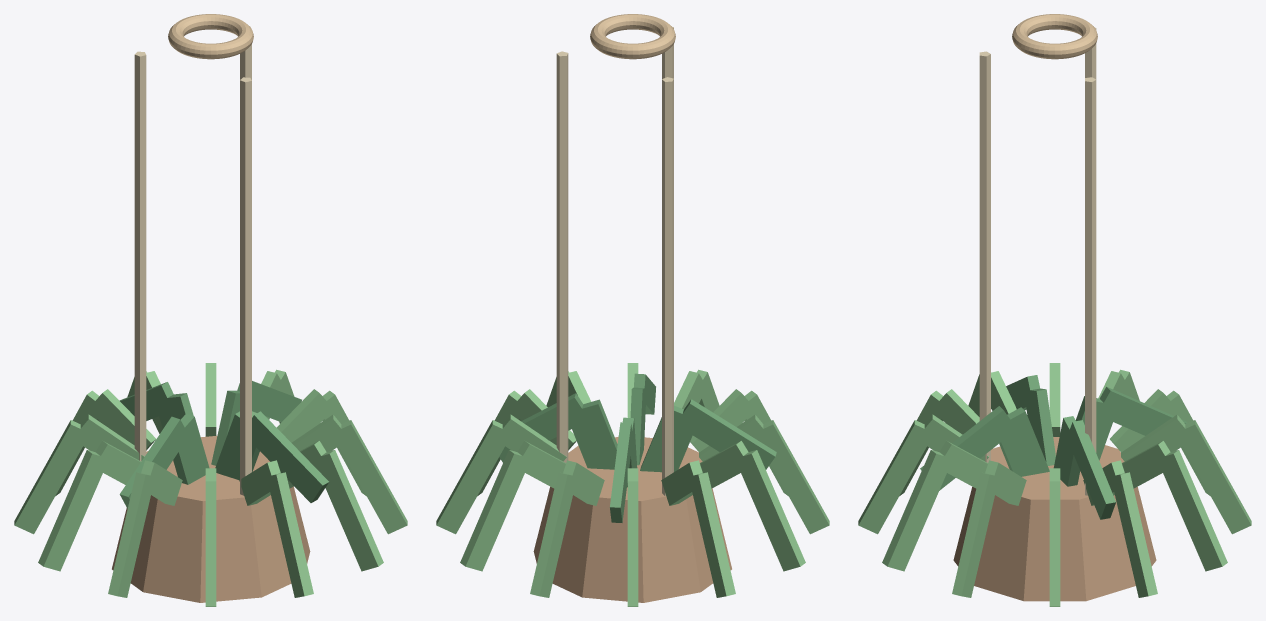
The model's file is 18-Casas_decor_maceta_helecho.glb.
3 renders of one model, left to right at view 1: azimuth 30°, elevation 25°; view 2: azimuth 150°, elevation 25°; view 3: azimuth 270°, elevation 25°, orthographic.
Parts seen in each view (by area): view 1: SM_MacHel_Maceta, SM_MacHel_Cuerda.001, SM_MacHel_Cuerda.002, SM_MacHel_Fr_10_La, SM_MacHel_Fr_6_La, SM_MacHel_Fr_5_La, SM_MacHel_Fr_11_La, SM_MacHel_Gancho, SM_MacHel_Centro_3_La, SM_MacHel_Fr_7_La, SM_MacHel_Fr_9_La, SM_MacHel_Centro_2_Pe (+17 smaller); view 2: SM_MacHel_Maceta, SM_MacHel_Cuerda, SM_MacHel_Cuerda.001, SM_MacHel_Fr_6_La, SM_MacHel_Fr_2_La, SM_MacHel_Fr_1_La, SM_MacHel_Fr_7_La, SM_MacHel_Gancho, SM_MacHel_Fr_5_La, SM_MacHel_Fr_3_La, SM_MacHel_Centro_0_Pe, SM_MacHel_Centro_2_La (+16 smaller); view 3: SM_MacHel_Maceta, SM_MacHel_Cuerda.002, SM_MacHel_Cuerda, SM_MacHel_Fr_2_La, SM_MacHel_Fr_10_La, SM_MacHel_Fr_3_La, SM_MacHel_Fr_9_La, SM_MacHel_Gancho, SM_MacHel_Fr_1_La, SM_MacHel_Fr_11_La, SM_MacHel_Centro_3_Pe, SM_MacHel_Centro_0_La (+18 smaller).
Part boxes in pixels (box(x1,y1,x2,y2)): SM_MacHel_Maceta: box(112, 435, 310, 602); SM_MacHel_Cuerda.001: box(134, 51, 146, 461); SM_MacHel_Cuerda.002: box(240, 77, 251, 495); SM_MacHel_Fr_10_La: box(313, 450, 383, 571); SM_MacHel_Fr_6_La: box(38, 450, 102, 571); SM_MacHel_Fr_5_La: box(14, 420, 87, 534); SM_MacHel_Fr_11_La: box(339, 420, 407, 534); SM_MacHel_Gancho: box(168, 14, 253, 59); SM_MacHel_Centro_3_La: box(252, 411, 328, 502); SM_MacHel_Fr_7_La: box(108, 472, 155, 597); SM_MacHel_Fr_9_La: box(267, 472, 313, 597); SM_MacHel_Centro_2_Pe: box(173, 414, 209, 484); SM_MacHel_Maceta: box(533, 436, 731, 602); SM_MacHel_Cuerda: box(556, 51, 568, 462); SM_MacHel_Cuerda.001: box(662, 77, 673, 495); SM_MacHel_Fr_6_La: box(735, 450, 805, 571); SM_MacHel_Fr_2_La: box(460, 450, 524, 571); SM_MacHel_Fr_1_La: box(436, 420, 511, 534); SM_MacHel_Fr_7_La: box(754, 420, 829, 534); SM_MacHel_Gancho: box(590, 14, 675, 59); SM_MacHel_Fr_5_La: box(689, 472, 735, 597); SM_MacHel_Fr_3_La: box(530, 472, 573, 597); SM_MacHel_Centro_0_Pe: box(568, 399, 617, 469); SM_MacHel_Centro_2_La: box(682, 399, 776, 469); SM_MacHel_Maceta: box(953, 437, 1156, 601); SM_MacHel_Cuerda.002: box(979, 51, 990, 462); SM_MacHel_Cuerda: box(1085, 77, 1096, 495); SM_MacHel_Fr_2_La: box(1157, 450, 1227, 571); SM_MacHel_Fr_10_La: box(882, 450, 952, 571); SM_MacHel_Fr_3_La: box(1176, 420, 1251, 534); SM_MacHel_Fr_9_La: box(858, 420, 933, 534); SM_MacHel_Gancho: box(1012, 14, 1097, 59); SM_MacHel_Fr_1_La: box(1110, 472, 1157, 597); SM_MacHel_Fr_11_La: box(952, 472, 999, 597); SM_MacHel_Centro_3_Pe: box(995, 407, 1049, 476); SM_MacHel_Centro_0_La: box(1069, 420, 1115, 519).
Size of the model in its own units: 0.5034 by 0.75 by 0.5034.
